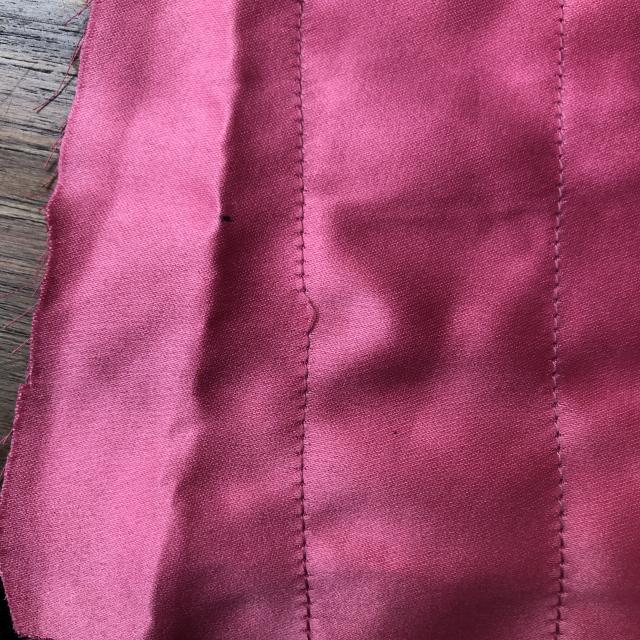skip: (284, 283, 332, 343)
